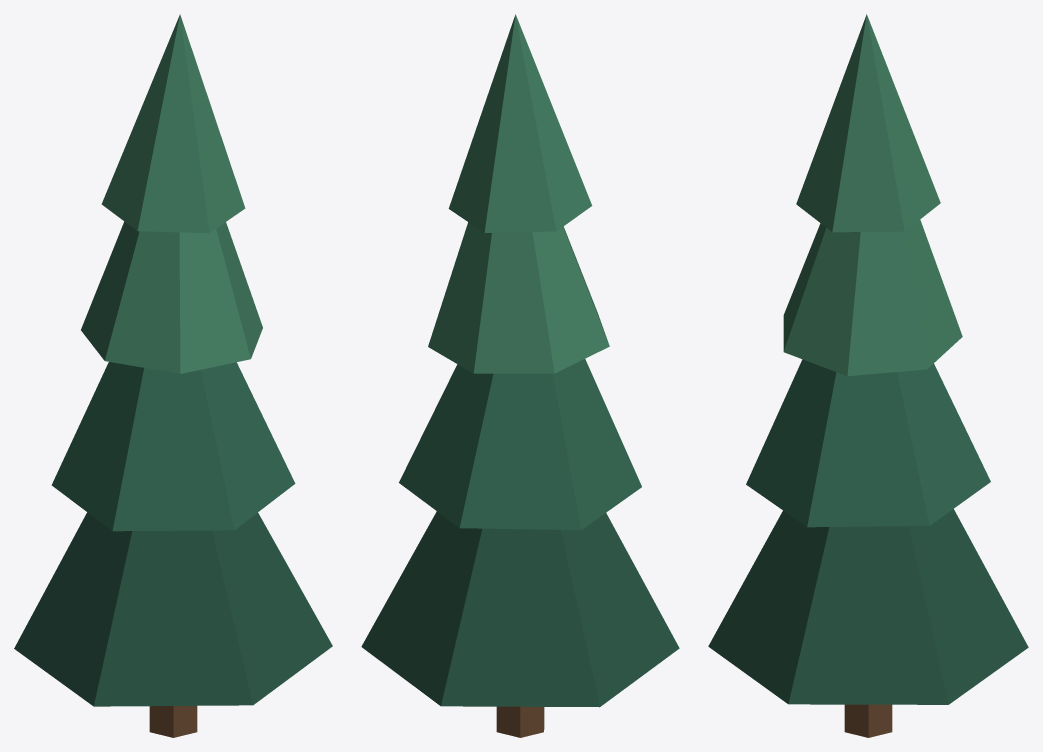
The model's file is tree_conifer_c.glb.
3 renders of one model, left to right at view 1: azimuth 30°, elevation 25°; view 2: azimuth 150°, elevation 25°; view 3: azimuth 270°, elevation 25°, orthographic.
Visible parts, largest first — view 1: tree_conifer_c; view 2: tree_conifer_c; view 3: tree_conifer_c.
Part boxes in pixels (x1,y1,x2,y2): tree_conifer_c: (14, 14, 332, 737); tree_conifer_c: (361, 14, 679, 737); tree_conifer_c: (708, 14, 1028, 737).
Bounding box in the file's own units: 1.11 × 3.16 × 1.28.
